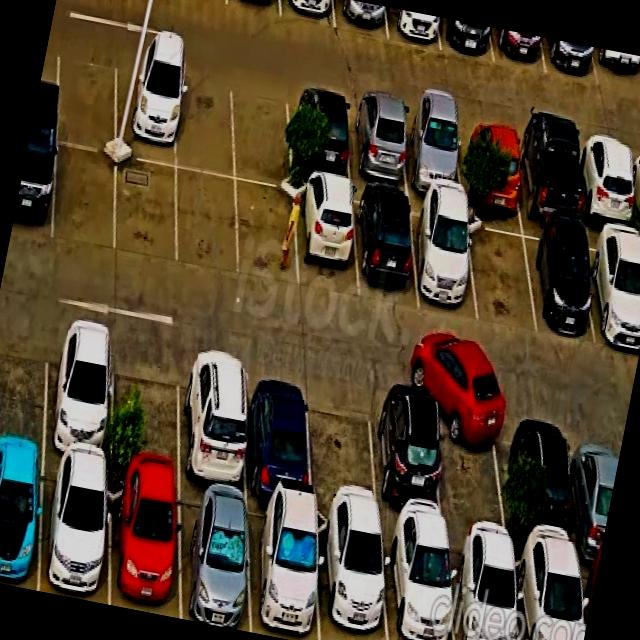empty: (440, 397, 509, 546), (309, 375, 379, 521), (113, 333, 181, 482), (466, 212, 536, 332), (53, 144, 117, 252), (232, 75, 292, 190), (0, 311, 48, 452), (177, 169, 239, 276), (57, 40, 116, 152), (116, 157, 176, 267), (236, 182, 298, 288), (177, 64, 235, 177)
occupied: (371, 386, 447, 533), (178, 485, 251, 633), (110, 471, 180, 619), (44, 318, 113, 468), (40, 457, 109, 605), (248, 499, 320, 640), (181, 347, 247, 495), (246, 360, 312, 505), (317, 511, 388, 640), (517, 409, 578, 556), (522, 222, 594, 338), (382, 526, 455, 640), (410, 199, 478, 321), (354, 188, 419, 306), (449, 535, 520, 640), (296, 178, 358, 298), (572, 420, 623, 560), (116, 52, 178, 167), (584, 228, 640, 349), (515, 127, 581, 226), (514, 547, 584, 640), (0, 450, 44, 591), (288, 86, 351, 182), (459, 117, 522, 212), (401, 105, 464, 199), (348, 96, 409, 190), (577, 137, 637, 230), (11, 133, 57, 241), (543, 37, 598, 85), (438, 17, 494, 62), (492, 27, 546, 73), (385, 7, 440, 50), (592, 47, 640, 95), (335, 0, 387, 37), (280, 0, 335, 28), (227, 0, 281, 17)
